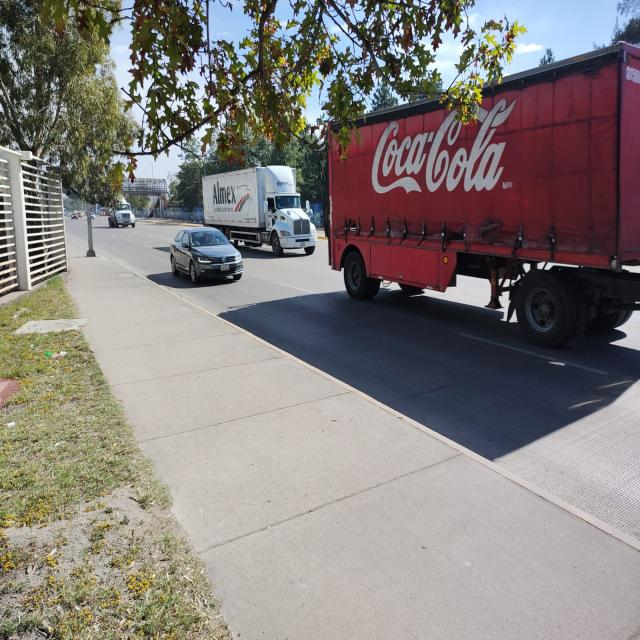Auto: (328, 51, 640, 339), (168, 227, 241, 279), (71, 212, 78, 220), (77, 211, 84, 219)
Autobus: (202, 174, 319, 252), (110, 198, 137, 226)
